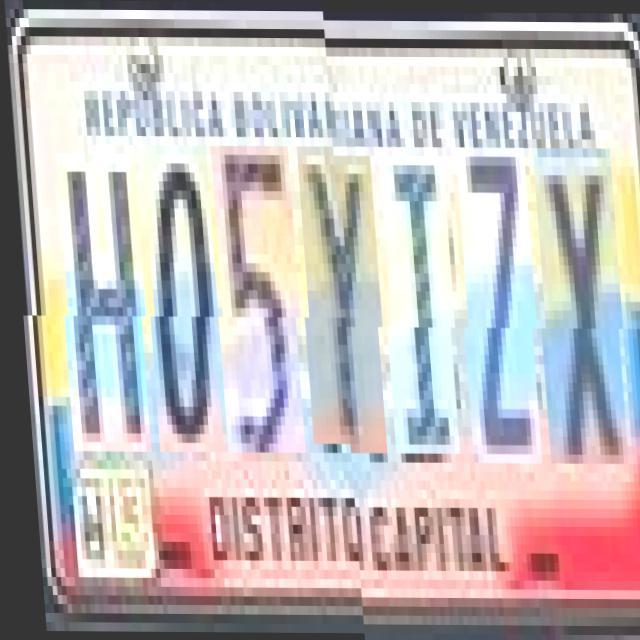5: (209, 154, 304, 462)
H: (55, 162, 149, 460)
I: (377, 156, 458, 454)
O: (141, 154, 222, 461)
X: (530, 148, 626, 464)
Y: (295, 155, 385, 453)
Z: (454, 147, 540, 463)
